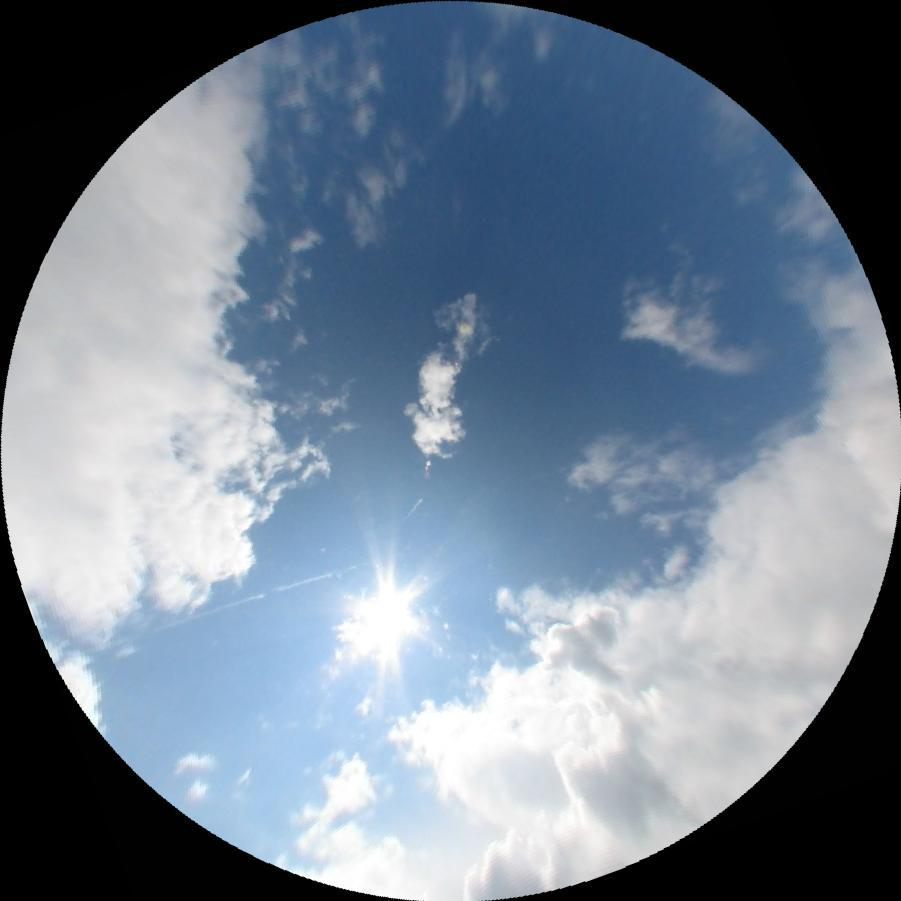contrail young: (401, 497, 423, 521)
parasite: (58, 567, 332, 665)
sun: (355, 579, 422, 651)
